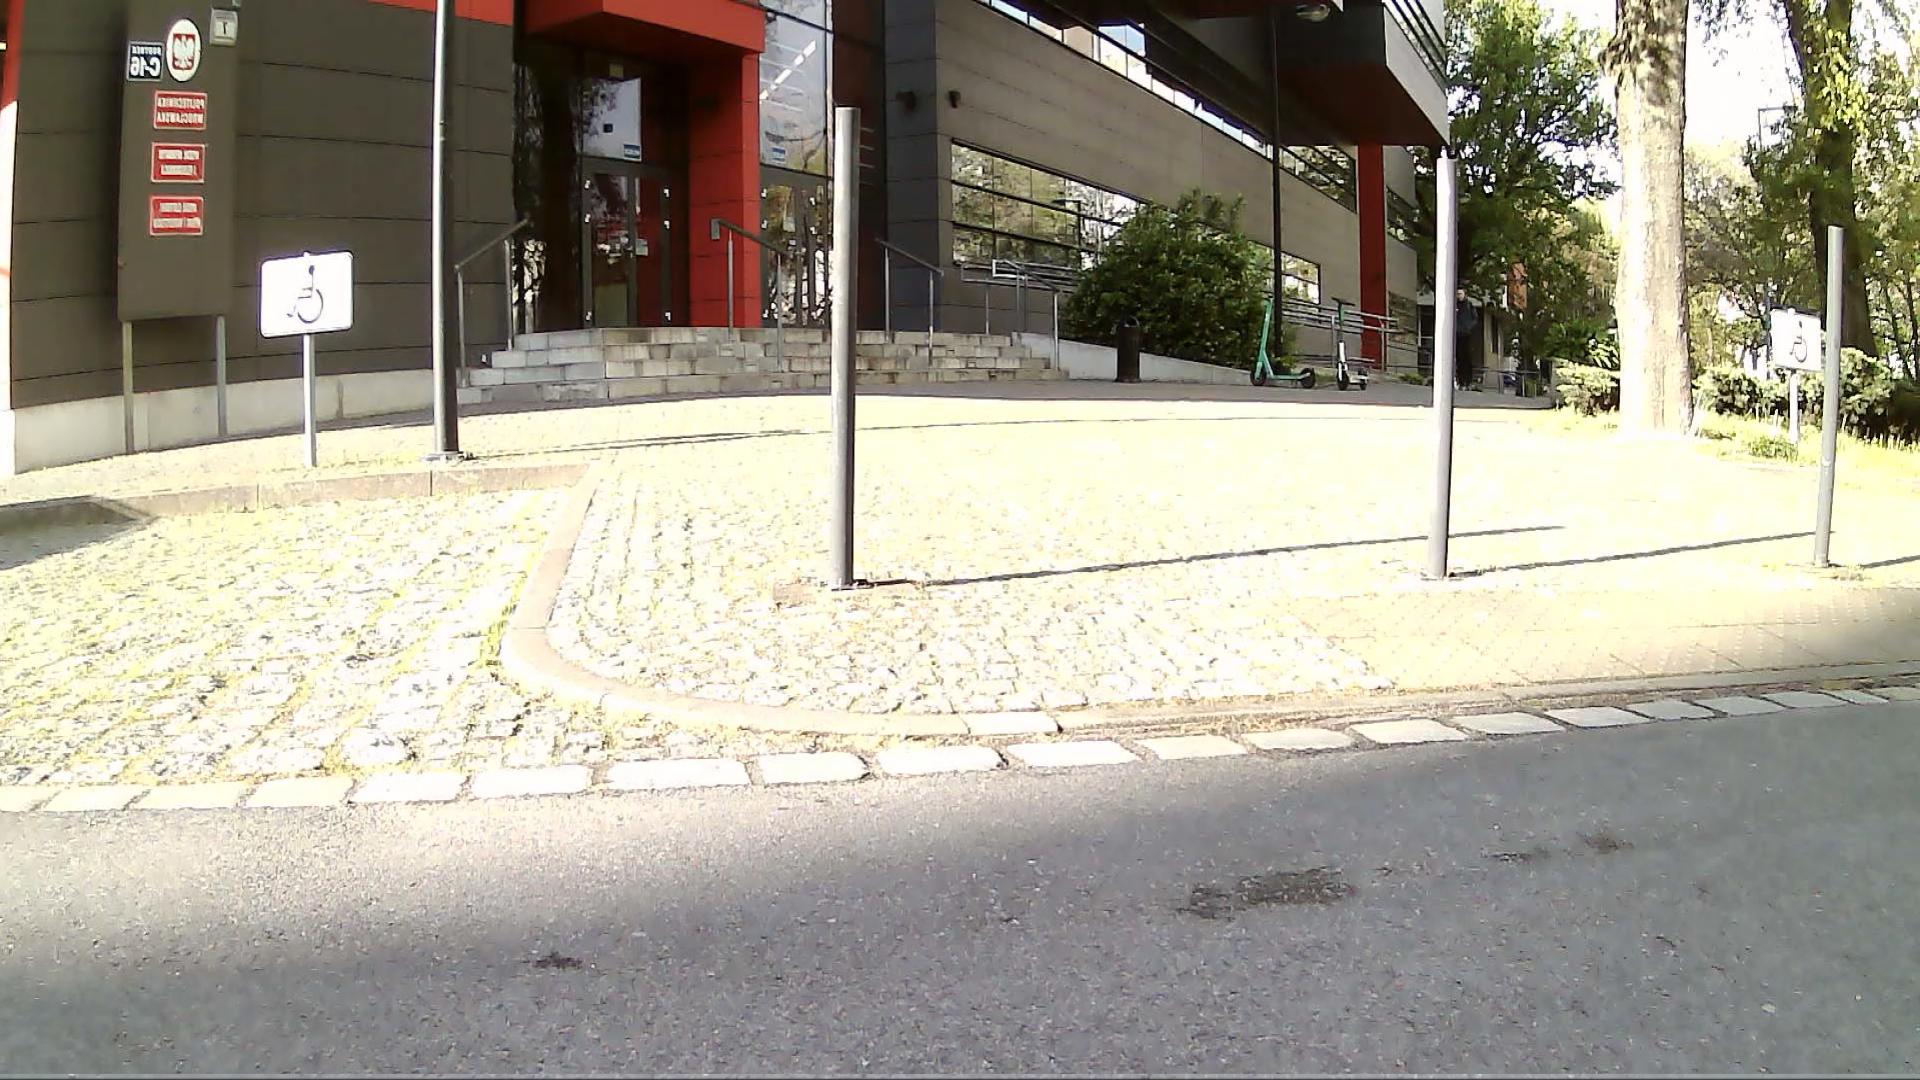bollards: (818, 102, 872, 595), (1412, 150, 1468, 588), (1805, 223, 1849, 571)
